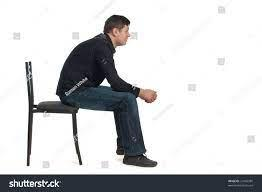bad-pose: (0, 0, 262, 192)
